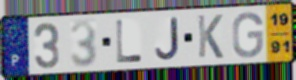3: (69, 18, 99, 69), (32, 21, 61, 70)
G: (231, 10, 265, 60)
J: (153, 16, 181, 62)
K: (196, 14, 225, 60)
L: (114, 19, 144, 65)
